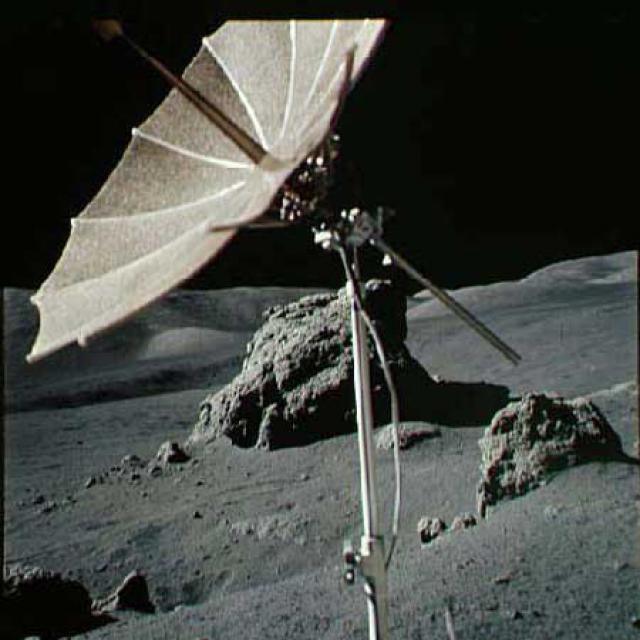artifact: (24, 2, 526, 394), (317, 392, 420, 638)
crater: (0, 343, 243, 394)
rock: (183, 273, 456, 451), (477, 387, 630, 519), (3, 556, 92, 630), (94, 569, 158, 613), (374, 414, 444, 451), (414, 509, 446, 543), (149, 436, 186, 464), (450, 511, 479, 534)
